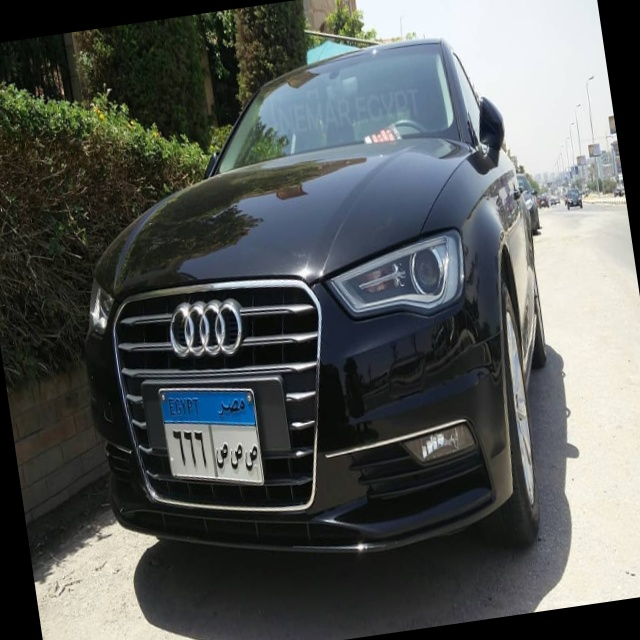License Plate: (156, 372, 268, 501)
